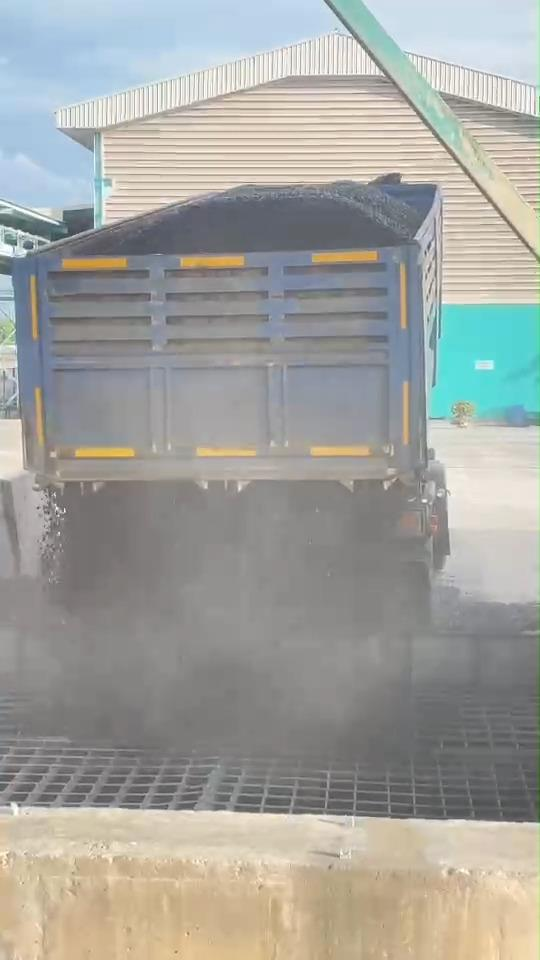gravel: (42, 483, 429, 737), (63, 181, 422, 255), (435, 584, 537, 636)
